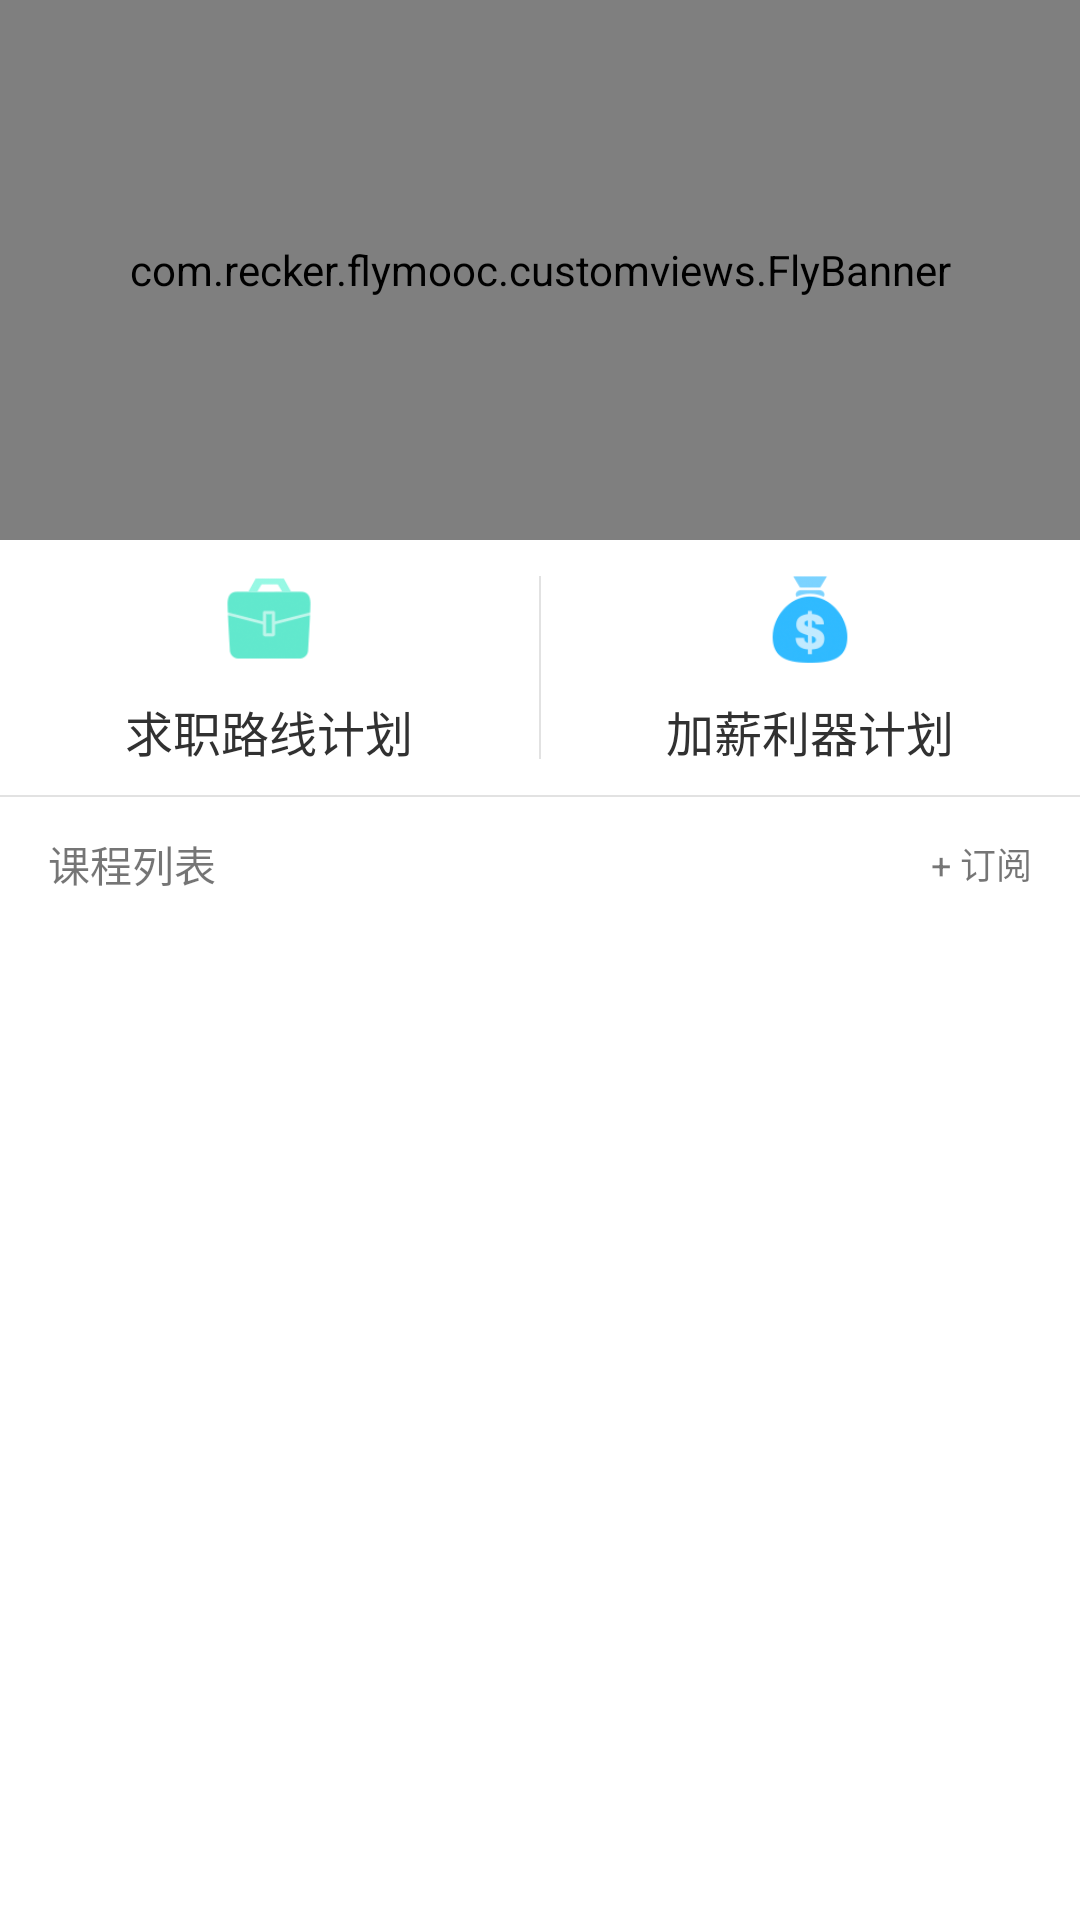

Icons on this 1080x1920 Android screen, each with its box as BBox(x1, y1, x2, y2):
jobline: BBox(227, 578, 311, 659)
